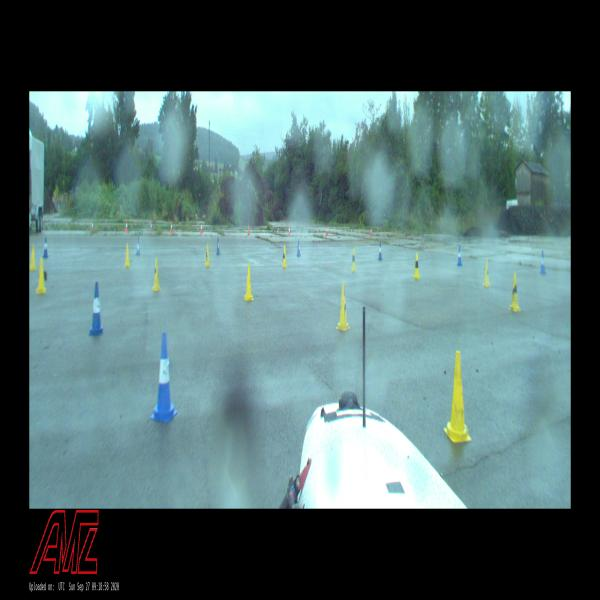blue_cone: (150, 333, 178, 423), (89, 282, 104, 336), (540, 250, 546, 274), (43, 236, 48, 258), (457, 245, 462, 266), (378, 242, 383, 260), (136, 236, 140, 256), (296, 240, 301, 256), (216, 237, 220, 254)
orange_cone: (246, 226, 250, 236), (170, 221, 173, 233), (200, 222, 203, 233), (150, 221, 153, 232), (125, 221, 128, 232), (288, 226, 291, 236), (326, 225, 328, 236), (92, 221, 94, 232), (370, 227, 372, 237)
yellow_cone: (444, 350, 471, 443), (336, 283, 350, 331), (509, 274, 521, 312), (35, 257, 46, 293), (244, 264, 254, 300), (151, 258, 161, 291), (482, 258, 491, 288), (29, 243, 37, 271), (414, 253, 420, 279), (350, 248, 356, 271), (124, 243, 130, 266), (204, 244, 210, 266), (282, 246, 287, 268)
